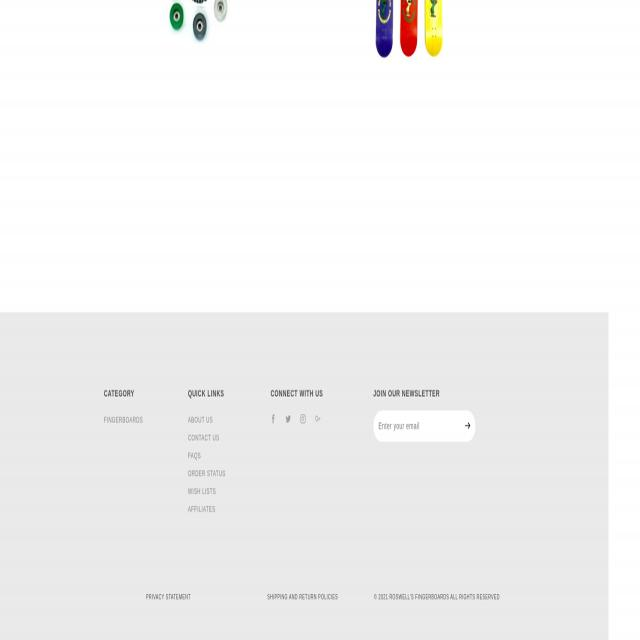button: (359, 0, 457, 75), (163, 0, 237, 50), (269, 412, 280, 430), (284, 411, 294, 429), (300, 411, 310, 429), (313, 411, 323, 429), (463, 416, 472, 434)
field: (377, 411, 475, 441)
